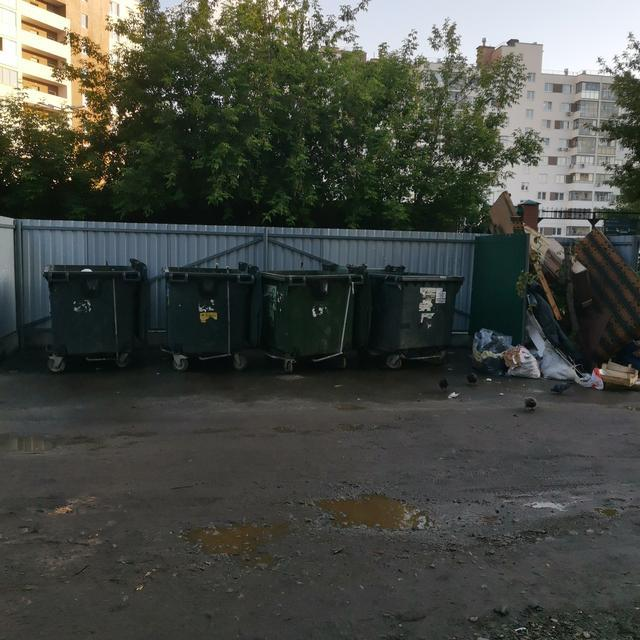Trash_Can_Empty: (43, 263, 140, 356), (260, 268, 357, 358), (162, 265, 252, 358), (370, 271, 464, 351)
